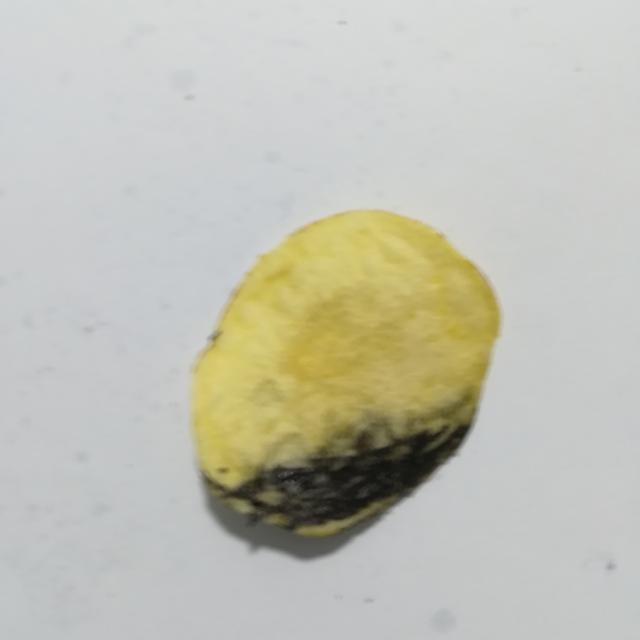chip: (191, 211, 500, 536)
damaged: (203, 420, 472, 534)
semi-damaged: (241, 386, 480, 483)
